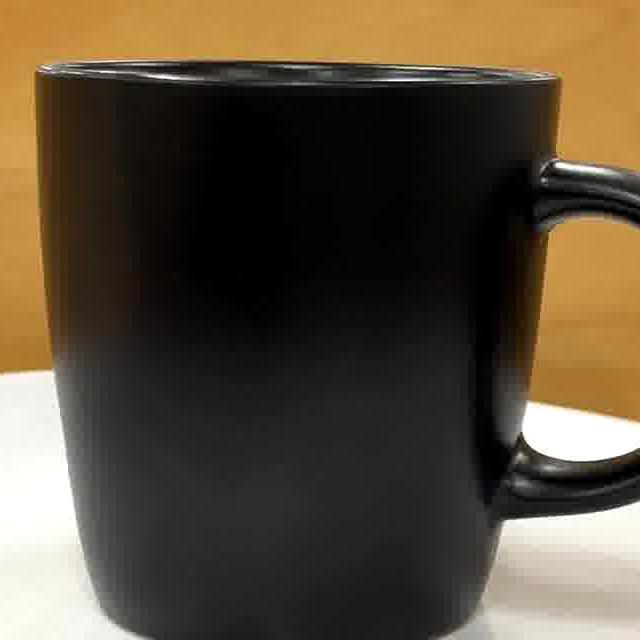cup: (41, 62, 640, 640)
